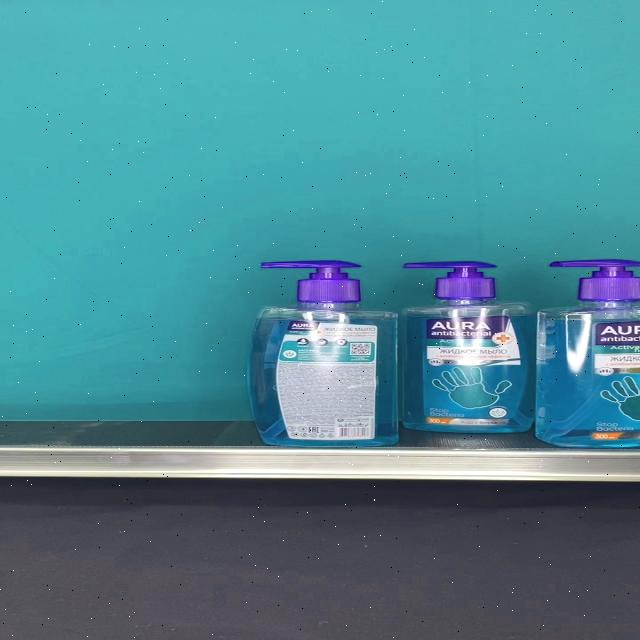Bottle: (246, 260, 399, 447), (402, 260, 537, 432)
Cap: (261, 260, 362, 304), (403, 260, 495, 300)
